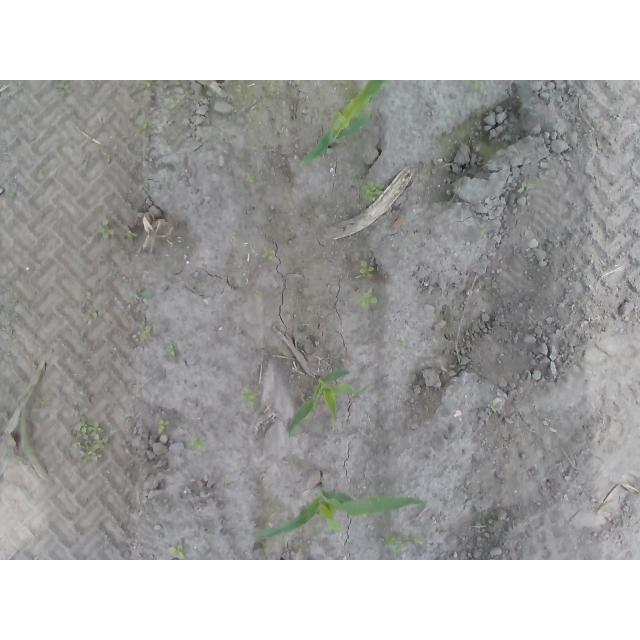Maize: (254, 483, 427, 538), (299, 80, 388, 168), (288, 370, 356, 439)
Weeds: (72, 420, 109, 465), (383, 527, 425, 554), (354, 288, 378, 309), (362, 181, 384, 203), (96, 218, 114, 241), (239, 386, 257, 407), (132, 325, 152, 343), (361, 259, 376, 282), (168, 544, 186, 561), (123, 224, 140, 241), (138, 287, 154, 303), (167, 96, 182, 110), (189, 436, 204, 449), (518, 178, 530, 194), (86, 307, 98, 322), (158, 419, 170, 434), (263, 246, 274, 261), (138, 80, 153, 90), (167, 343, 177, 357), (140, 118, 153, 128), (395, 334, 405, 346), (253, 289, 263, 299), (245, 174, 255, 183), (471, 80, 482, 88)
